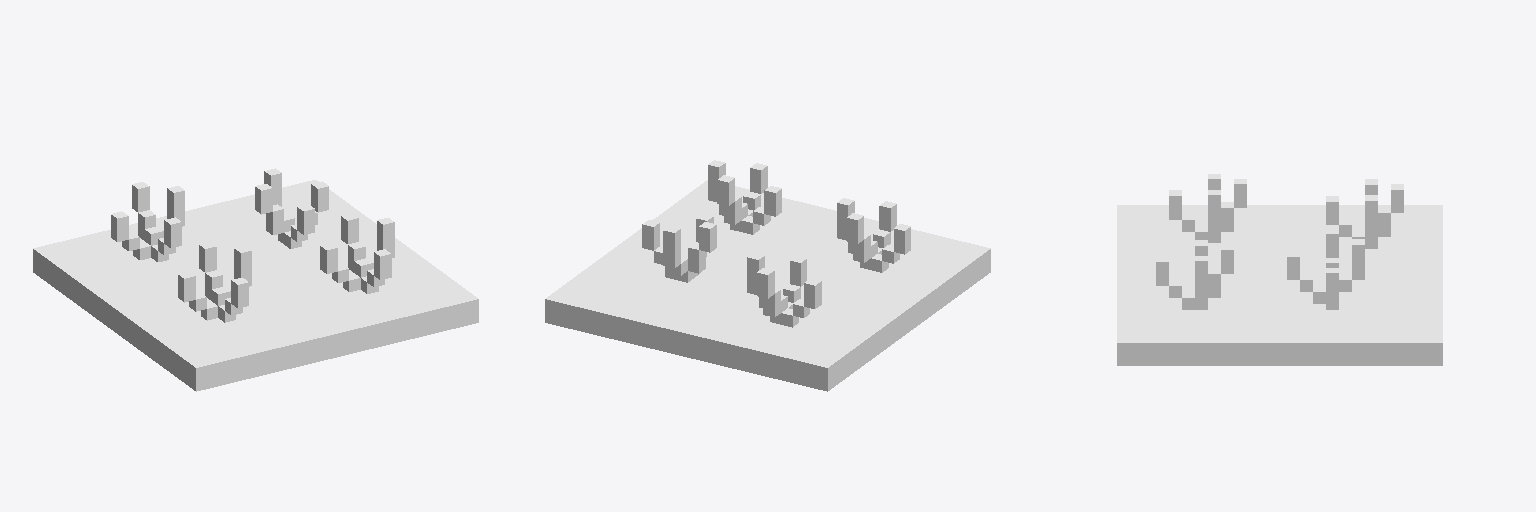
Rendered from carrotGardenBed-3.obj.
The picture shows the model from 3 angles: view 1: azimuth 30°, elevation 25°; view 2: azimuth 150°, elevation 25°; view 3: azimuth 270°, elevation 25°; orthographic projection.
Parts seen in each view (by area): view 1: object 1; view 2: object 1; view 3: object 1.
Boxes of the visible parts, x1,y1,x2,y2 form: object 1: [33, 168, 478, 391]; object 1: [545, 160, 990, 391]; object 1: [1117, 174, 1442, 365].
Bounding box in the file's own units: 2.5 × 0.7 × 2.5.